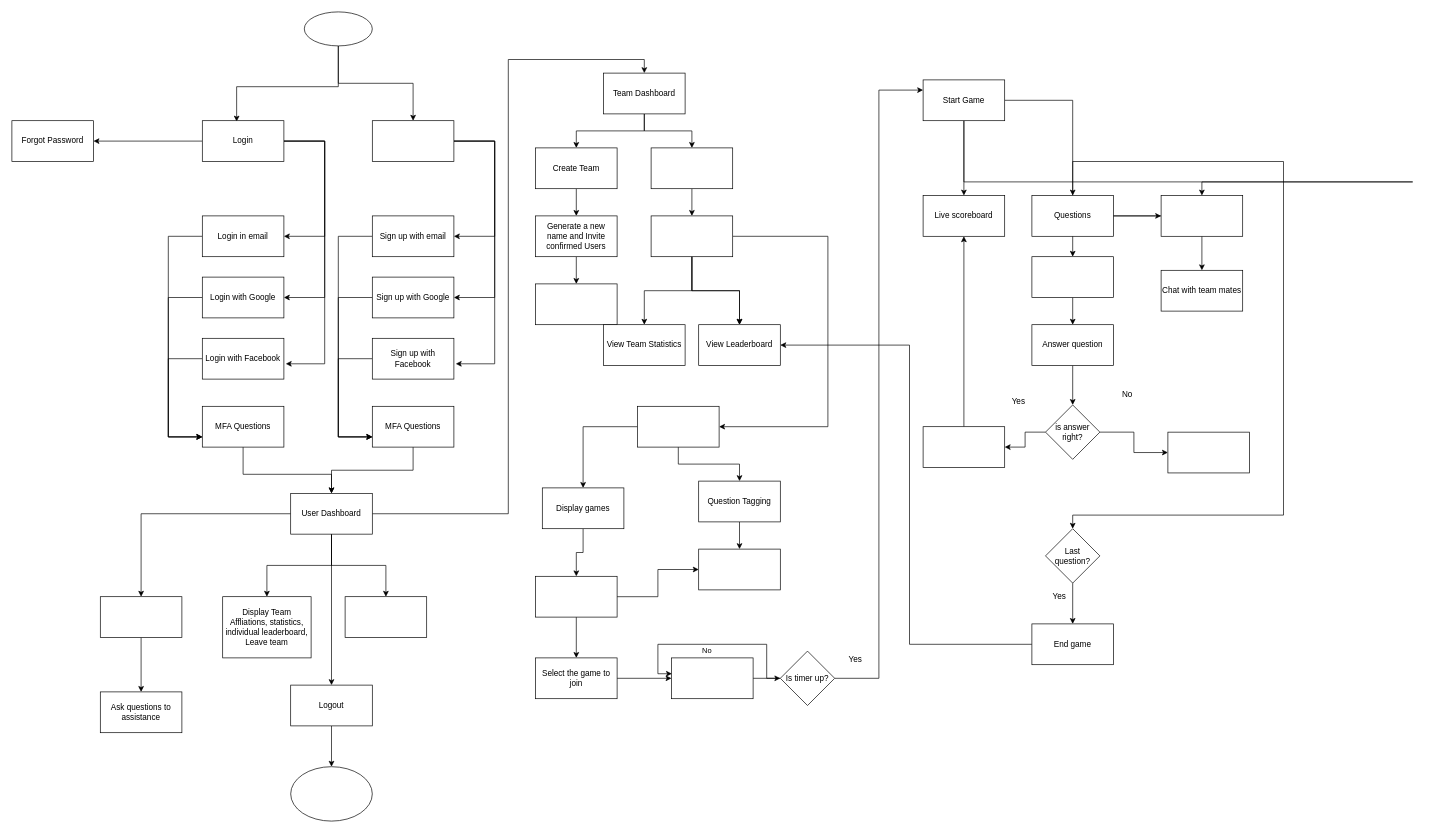
This 1430x833 diagram has some shape labels left out. Each missing label, with the centre of its shape:
"Add a question and generate tags" belongs at (739,569).
"Apply filter to browse games based on the caregories" belongs at (576,596).
"Ask for hint" belongs at (1072,277).
"Chat Modal" belongs at (1201,215).
"Click to navigate to Teams Page" belongs at (691,236).
"End" belongs at (331,793).
"Explore Games" belongs at (678,426).
"Show correct, give points and update the scoreboard" belongs at (963,447).
"Show incorrect" belongs at (1208,452).
"Sign up" belongs at (413,141).
"Start" belongs at (338,28).
"Update Profile" belongs at (385,617).
"Users will receive invite to accept/decline" belongs at (576,304).
"View My Teams and participations in team." belongs at (691,168).
"Virtual Assistance on all the pages" belongs at (141,617).
"Wait in lobby for other users to join for 120 seconds" belongs at (712,678).
